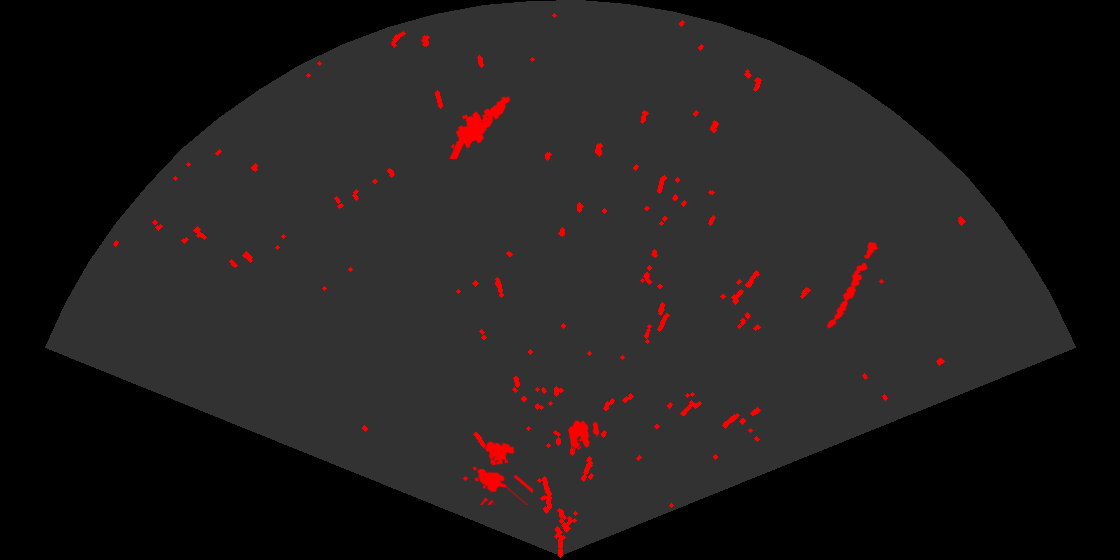ball: (567, 419, 601, 450)
cage: (471, 440, 533, 505)
chain: (825, 240, 880, 330)
frogman: (448, 95, 512, 159)
